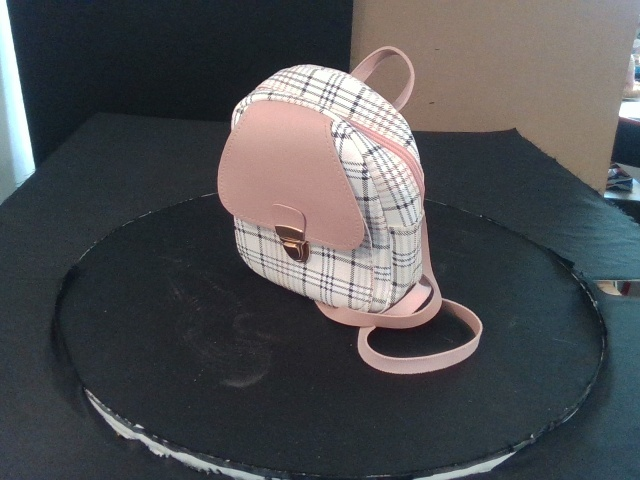bag: (216, 64, 424, 313)
